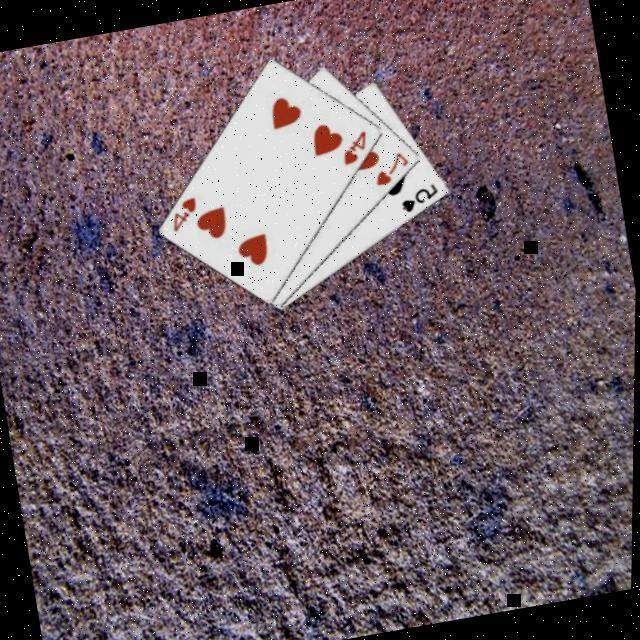4H: (338, 125, 376, 166), (168, 192, 205, 233)
5S: (398, 178, 446, 215)
7H: (371, 146, 416, 188)
